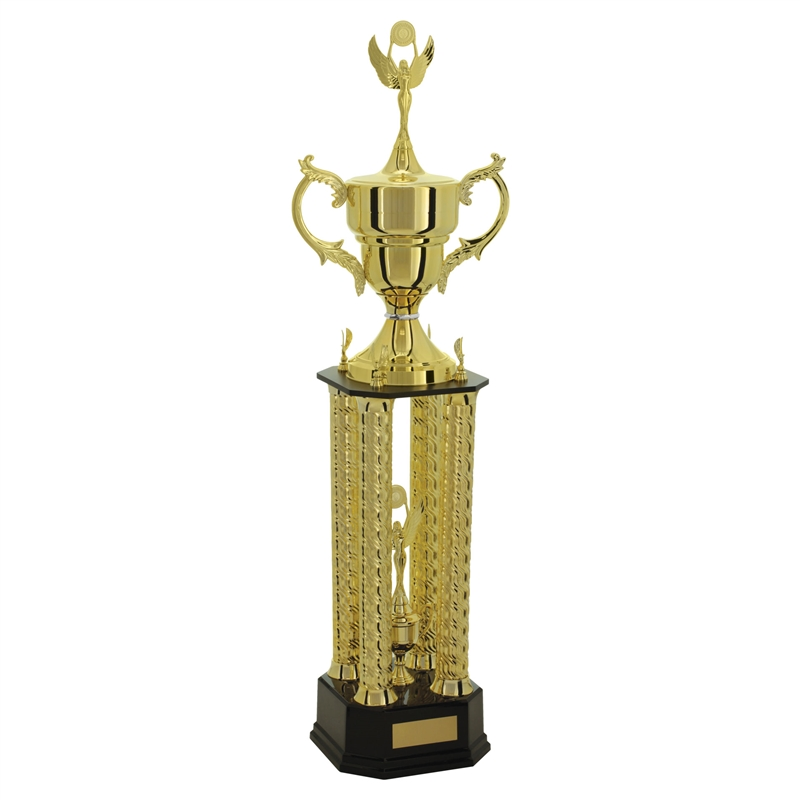trophy: (287, 19, 519, 783)
